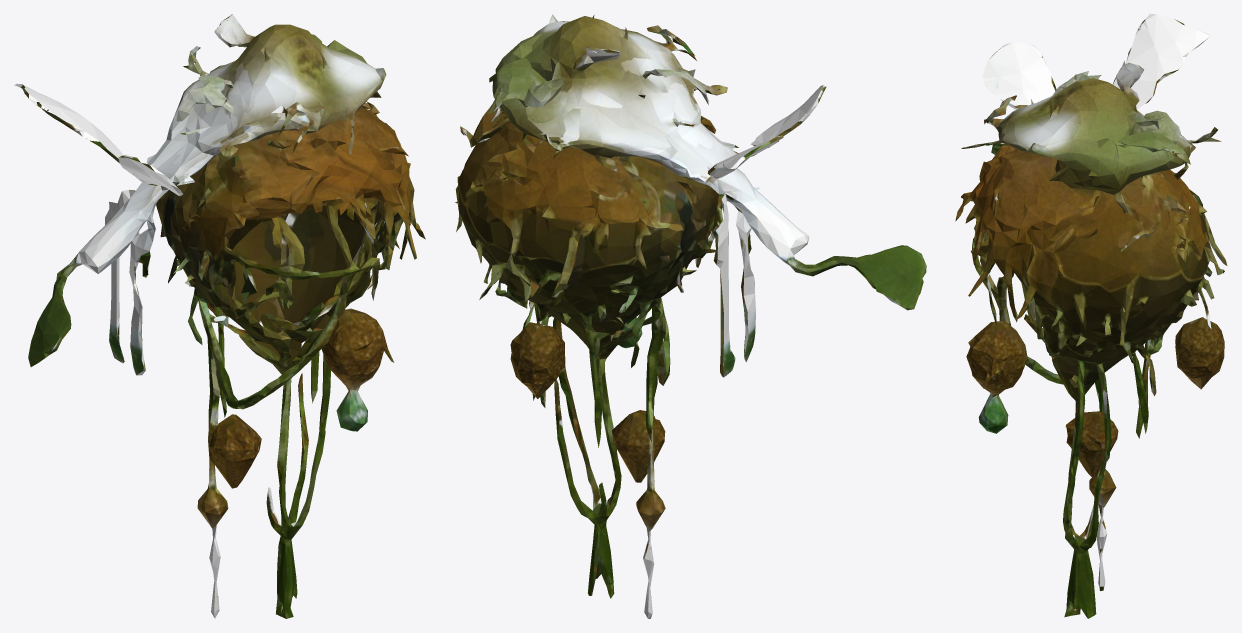
The model's file is beehive.glb.
The picture shows the model from 3 angles, left to right: view 1: azimuth 30°, elevation 25°; view 2: azimuth 150°, elevation 25°; view 3: azimuth 270°, elevation 25°; orthographic projection. The views are drawn at different scales.
Parts seen in each view (by area): view 1: tmppba66k8l.ply; view 2: tmppba66k8l.ply; view 3: tmppba66k8l.ply.
Boxes of the visible parts, box(x1,y1,x2,y2) form: tmppba66k8l.ply: box(14, 14, 425, 618); tmppba66k8l.ply: box(455, 14, 926, 618); tmppba66k8l.ply: box(955, 14, 1227, 618).
Bounding box in the file's own units: 1.44 × 1.97 × 0.897.
1 material, 1 textured.
